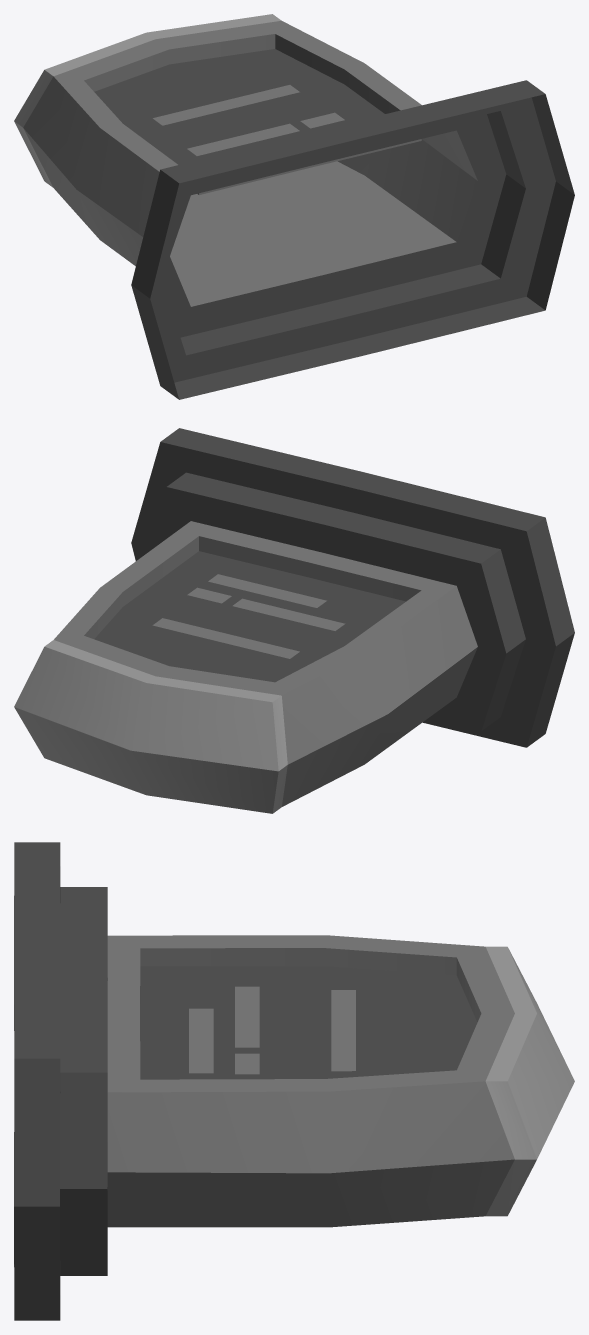
Rendered from Tombstone 01.FBX.
3 views of the same model, one above another, from view 1: azimuth 30°, elevation 25°; view 2: azimuth 150°, elevation 25°; view 3: azimuth 270°, elevation 25° (orthographic). The views are drawn at different scales.
Visible parts, largest first — view 1: Tombstone 01; view 2: Tombstone 01; view 3: Tombstone 01.
Boxes of the visible parts, left/top/right/bottom form: Tombstone 01: left=14, top=14, right=574, bottom=399; Tombstone 01: left=14, top=428, right=574, bottom=813; Tombstone 01: left=14, top=842, right=574, bottom=1320.
Size of the model in its own units: 122 by 59.59 by 115.
